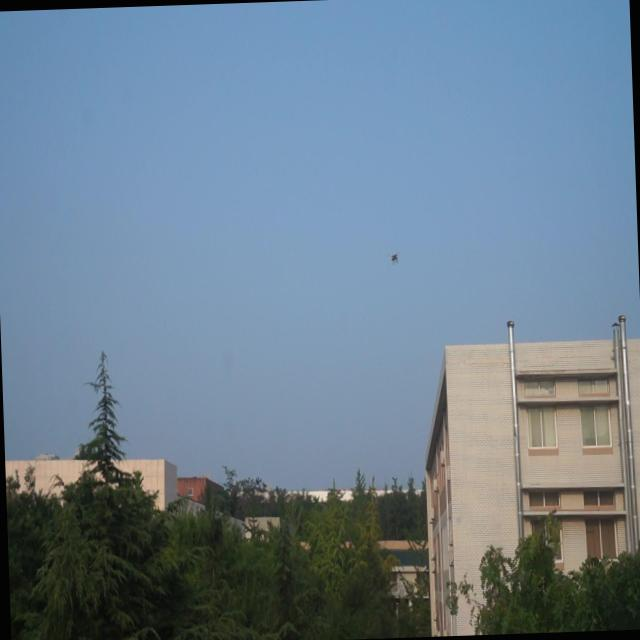drone: (389, 250, 400, 264)
